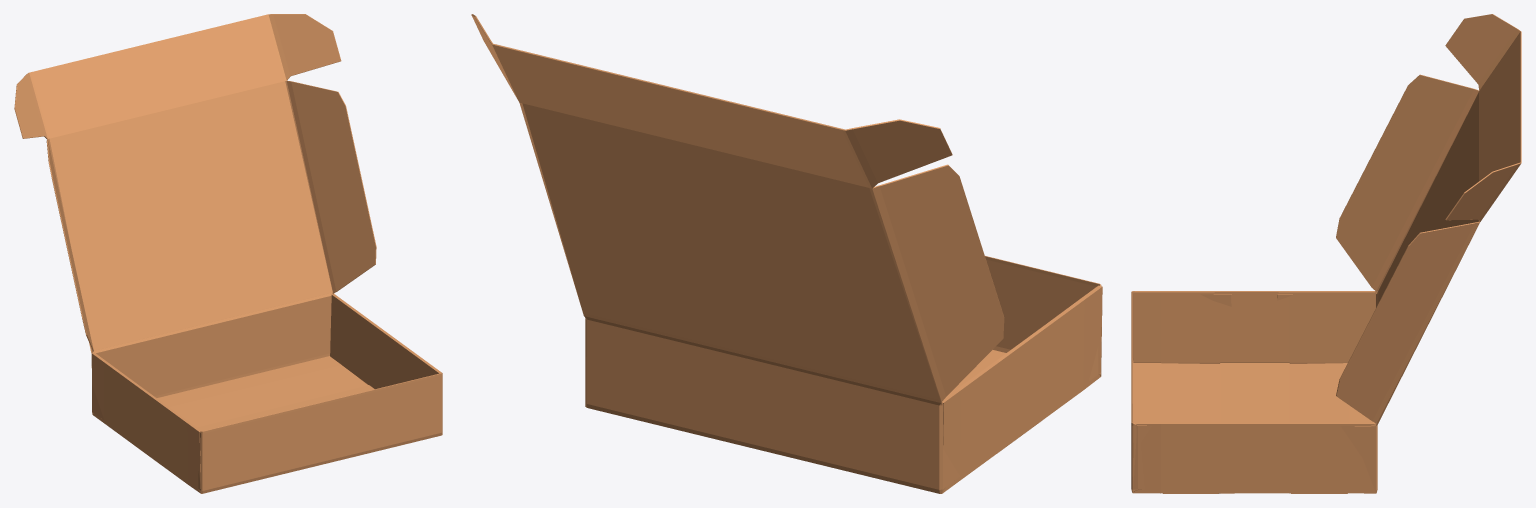
The model's file is magnetic-box.glb.
3 views of the same model, side by side, from view 1: azimuth 30°, elevation 25°; view 2: azimuth 150°, elevation 25°; view 3: azimuth 270°, elevation 25° (orthographic). The views are drawn at different scales.
Visible parts, largest first — view 1: box; view 2: box; view 3: box.
Part boxes in pixels (x1,y1,x2,y2): box: (14,14,442,493); box: (471,14,1102,493); box: (1131,14,1521,493).
Bounding box in the file's own units: 0.3234 × 0.2913 × 0.3059.
